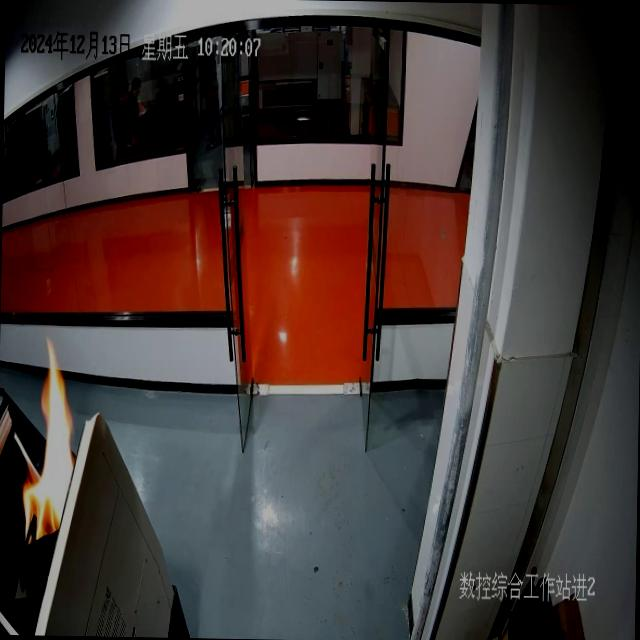fire: (5, 318, 92, 580)
